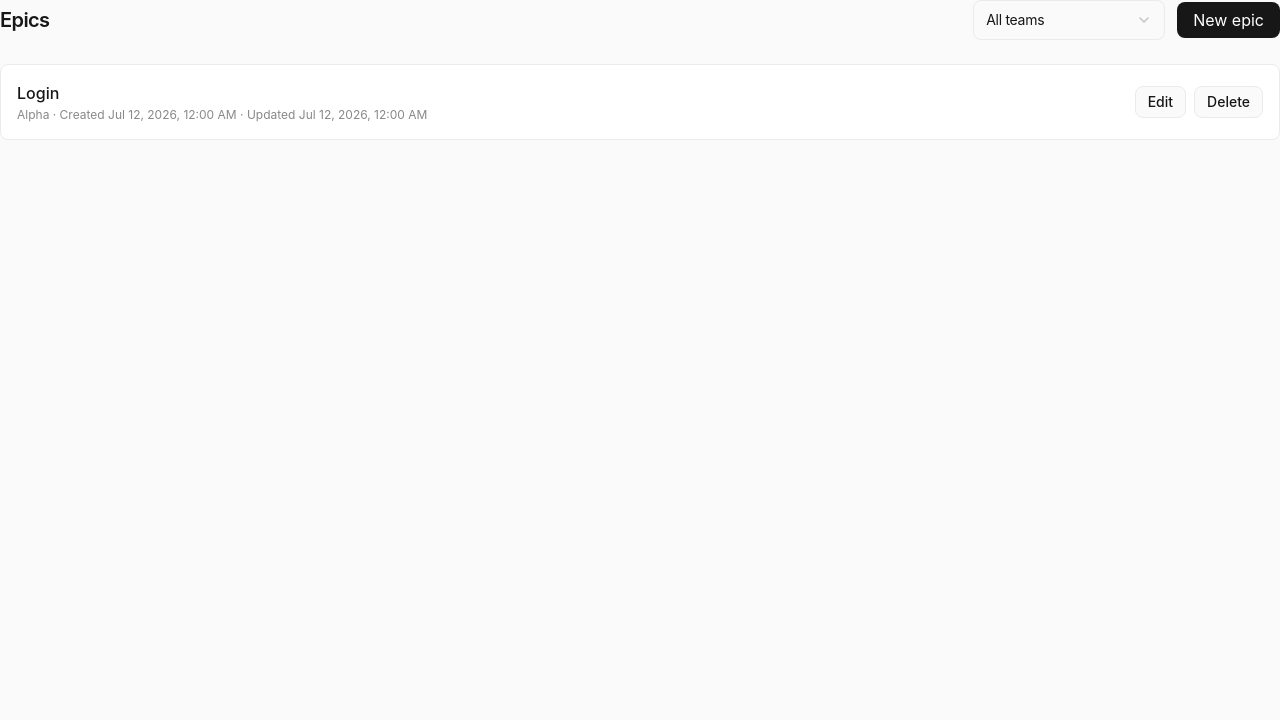
Scenario: EpicsPage › delete_shouldRemoveRow_whenConfirmedAndNoContent
Click the button with aria-label "delete login": (1229, 102) [1194,86,1263,118]
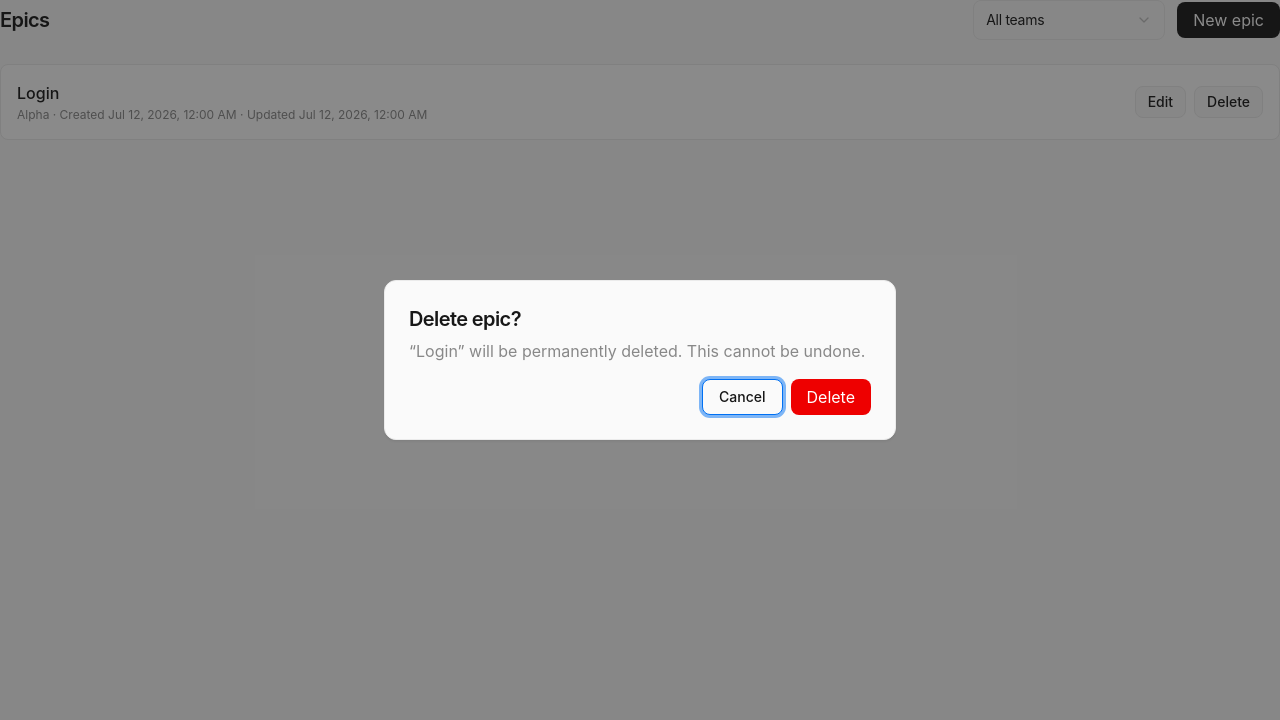
Click the button "Delete": (831, 397) [790,379,871,415]
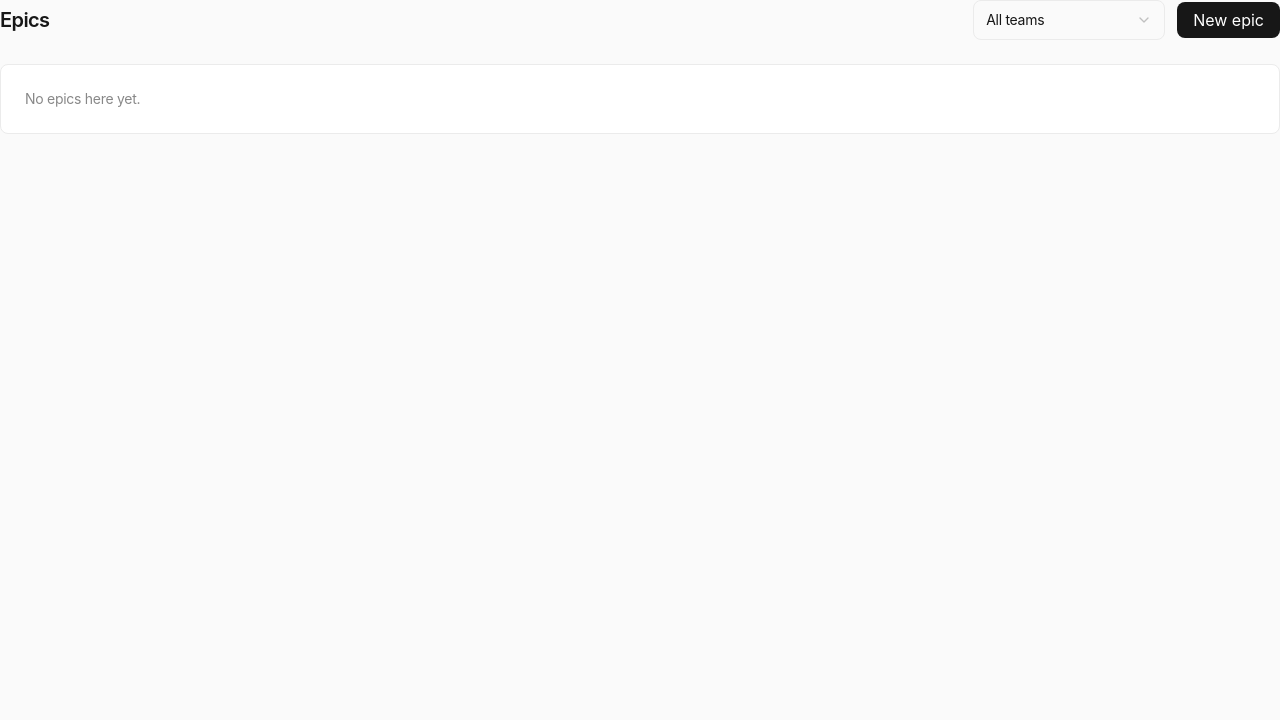
Result: the text "Login" is gone
Result: the text "No epics here yet." is shown at [0,64,1279,134]
